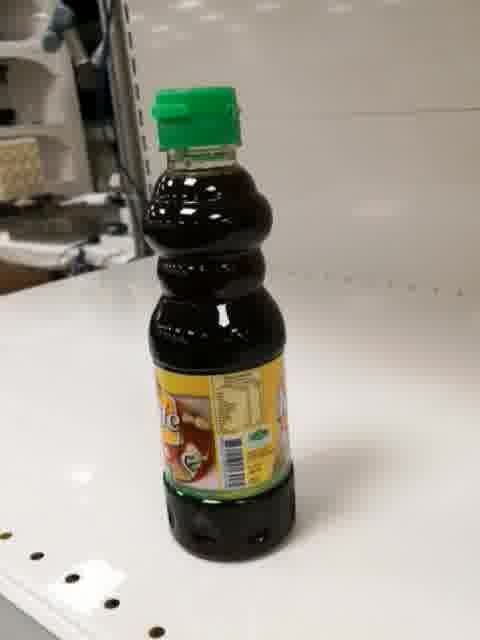cookingoil: (139, 83, 299, 566)
